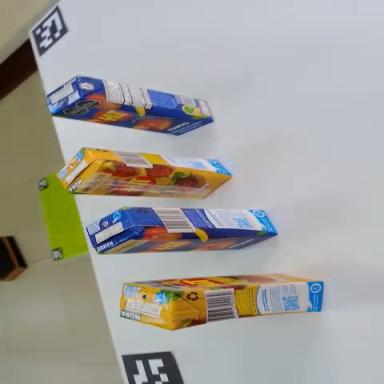HIT-MANGO: (45, 72, 216, 141), (87, 202, 276, 255)
HIT-MORA: (118, 267, 326, 335), (57, 146, 233, 207)
cara_F: (51, 92, 213, 144), (71, 162, 232, 207), (124, 269, 319, 295), (98, 229, 278, 254)
